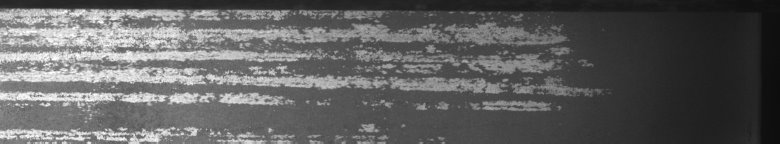kb: (4, 4, 528, 136)
